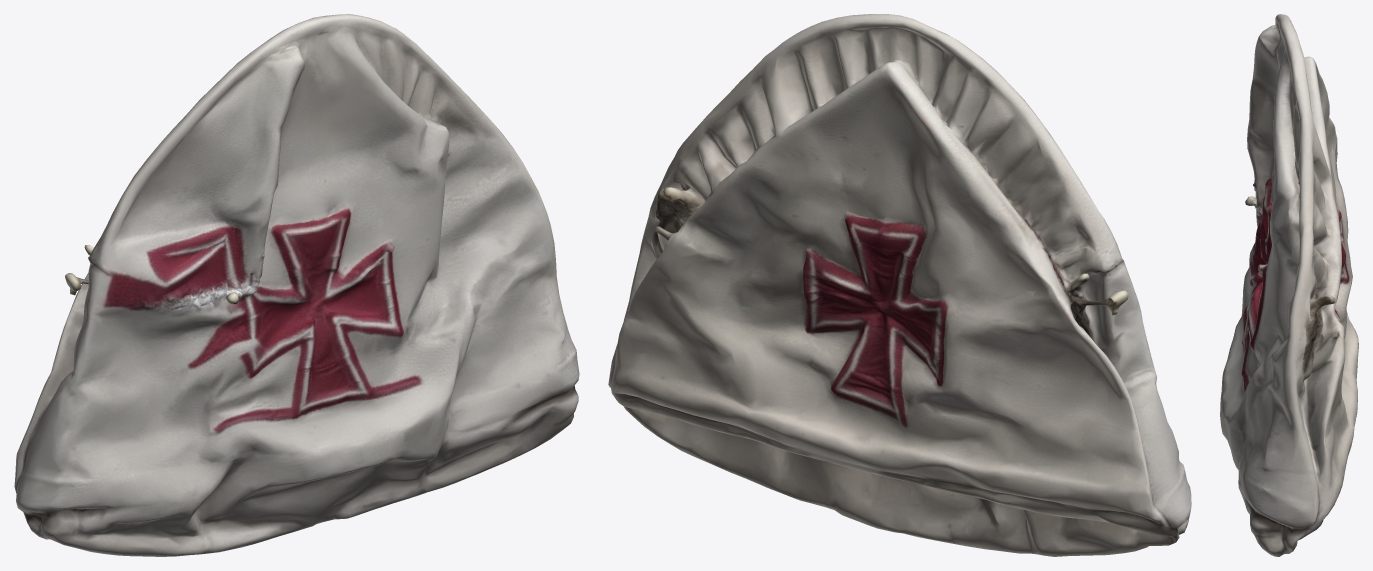
Rendered from prop_kilnworth_nursecap.glb.
3 renders of one model, left to right at view 1: azimuth 30°, elevation 25°; view 2: azimuth 150°, elevation 25°; view 3: azimuth 270°, elevation 25°, orthographic. The views are drawn at different scales.
Size of the model in its own units: 0.133 by 0.115 by 0.0316.
1 material, 1 textured.
